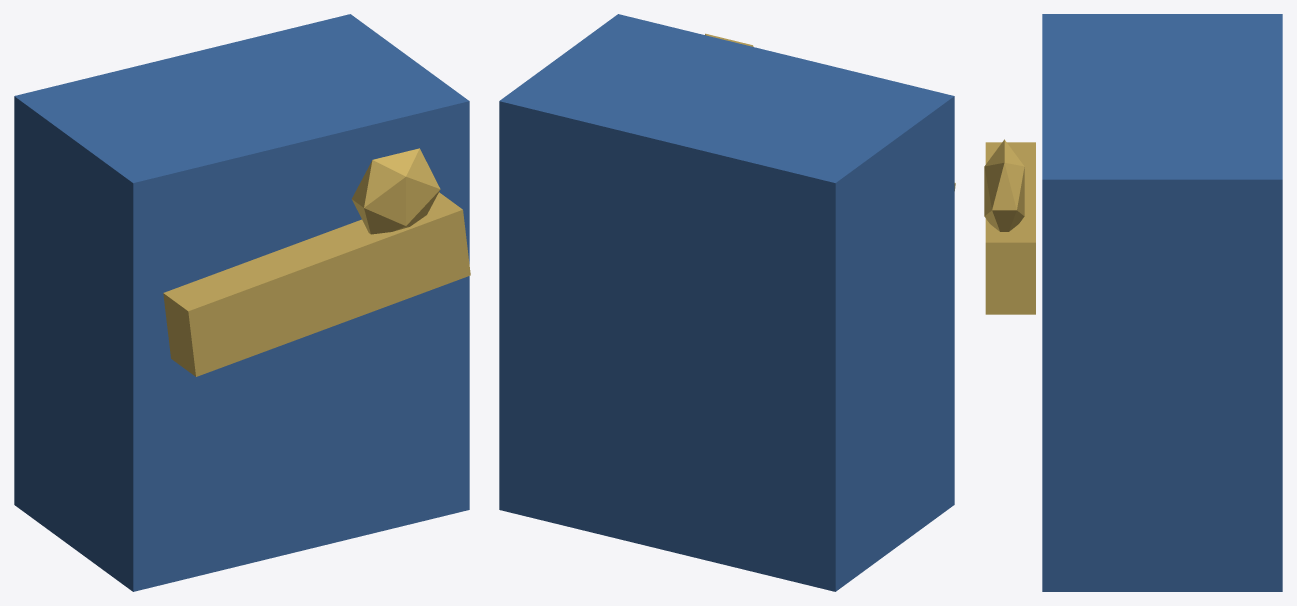
File: explorer_outfit.glb
3 views of the same model, side by side, from view 1: azimuth 30°, elevation 25°; view 2: azimuth 150°, elevation 25°; view 3: azimuth 270°, elevation 25° (orthographic).
Visible parts, largest first — view 1: outfit_torso, outfit_trim, outfit_badge; view 2: outfit_torso; view 3: outfit_torso, outfit_trim, outfit_badge.
Boxes of the visible parts, x1,y1,x2,y2 form: outfit_torso: (14,14,469,591); outfit_trim: (163,192,470,376); outfit_badge: (352,148,440,234); outfit_torso: (499,14,954,591); outfit_torso: (1042,14,1282,591); outfit_trim: (985,142,1035,314); outfit_badge: (984,139,1024,231).
Bounding box in the file's own units: 0.62 × 0.72 × 0.4718.
